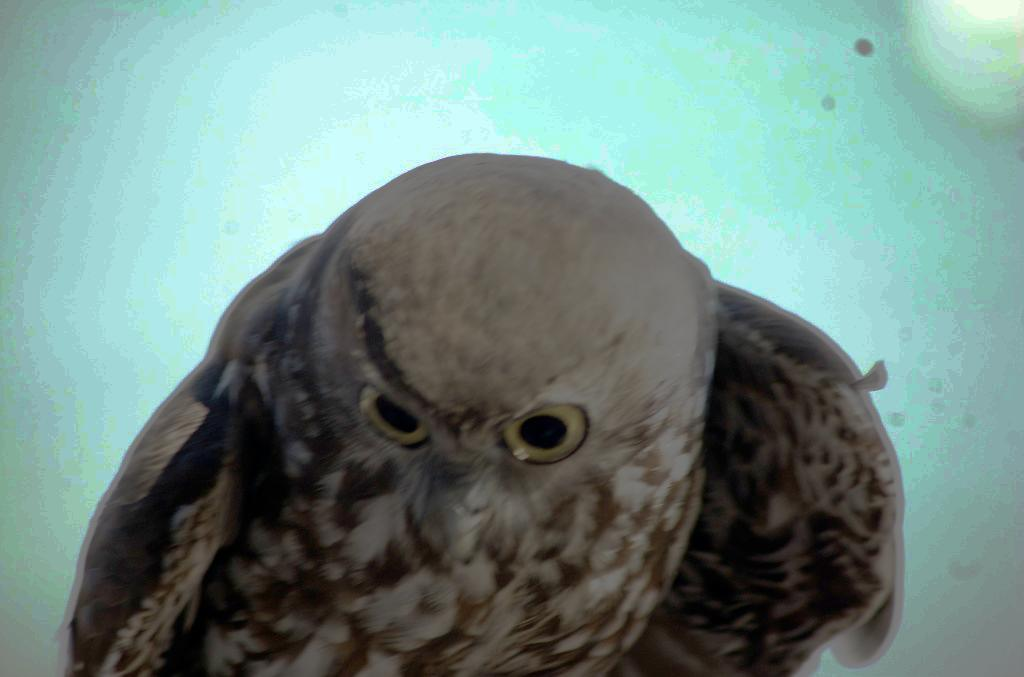Owl: (58, 152, 898, 676)
